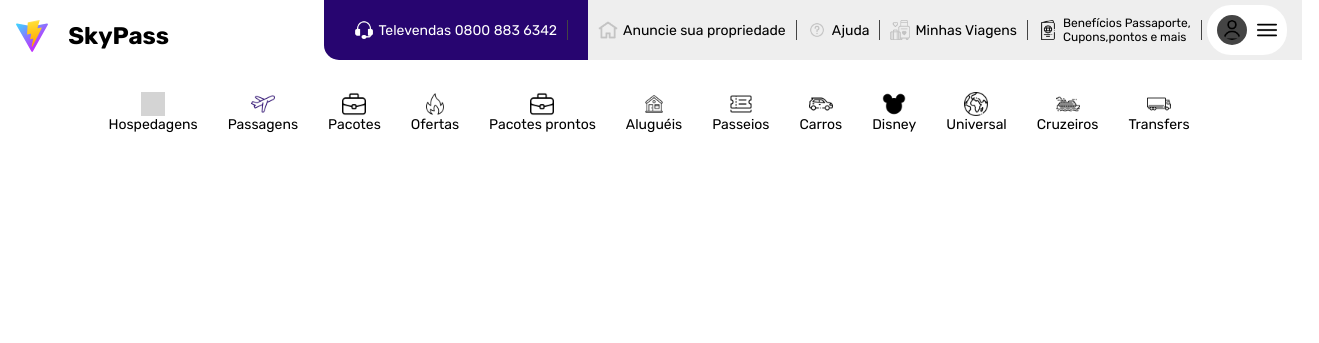
Test: mostra menu de usuário não logado quando autenticado = false
The image size is (1319, 343).
What coordinates should you click on to do the following:
click the element with class "container_imagens_menu"
I would click on:
 (1247, 30)
Its box is 1207,5 -> 1287,55.
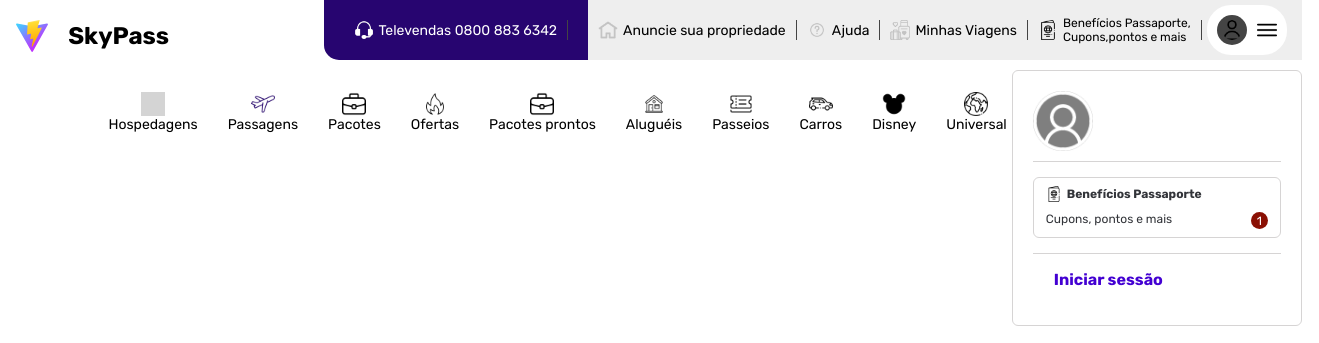
Check: the text "Iniciar sessão" is shown, box 1054,270 -> 1163,289
